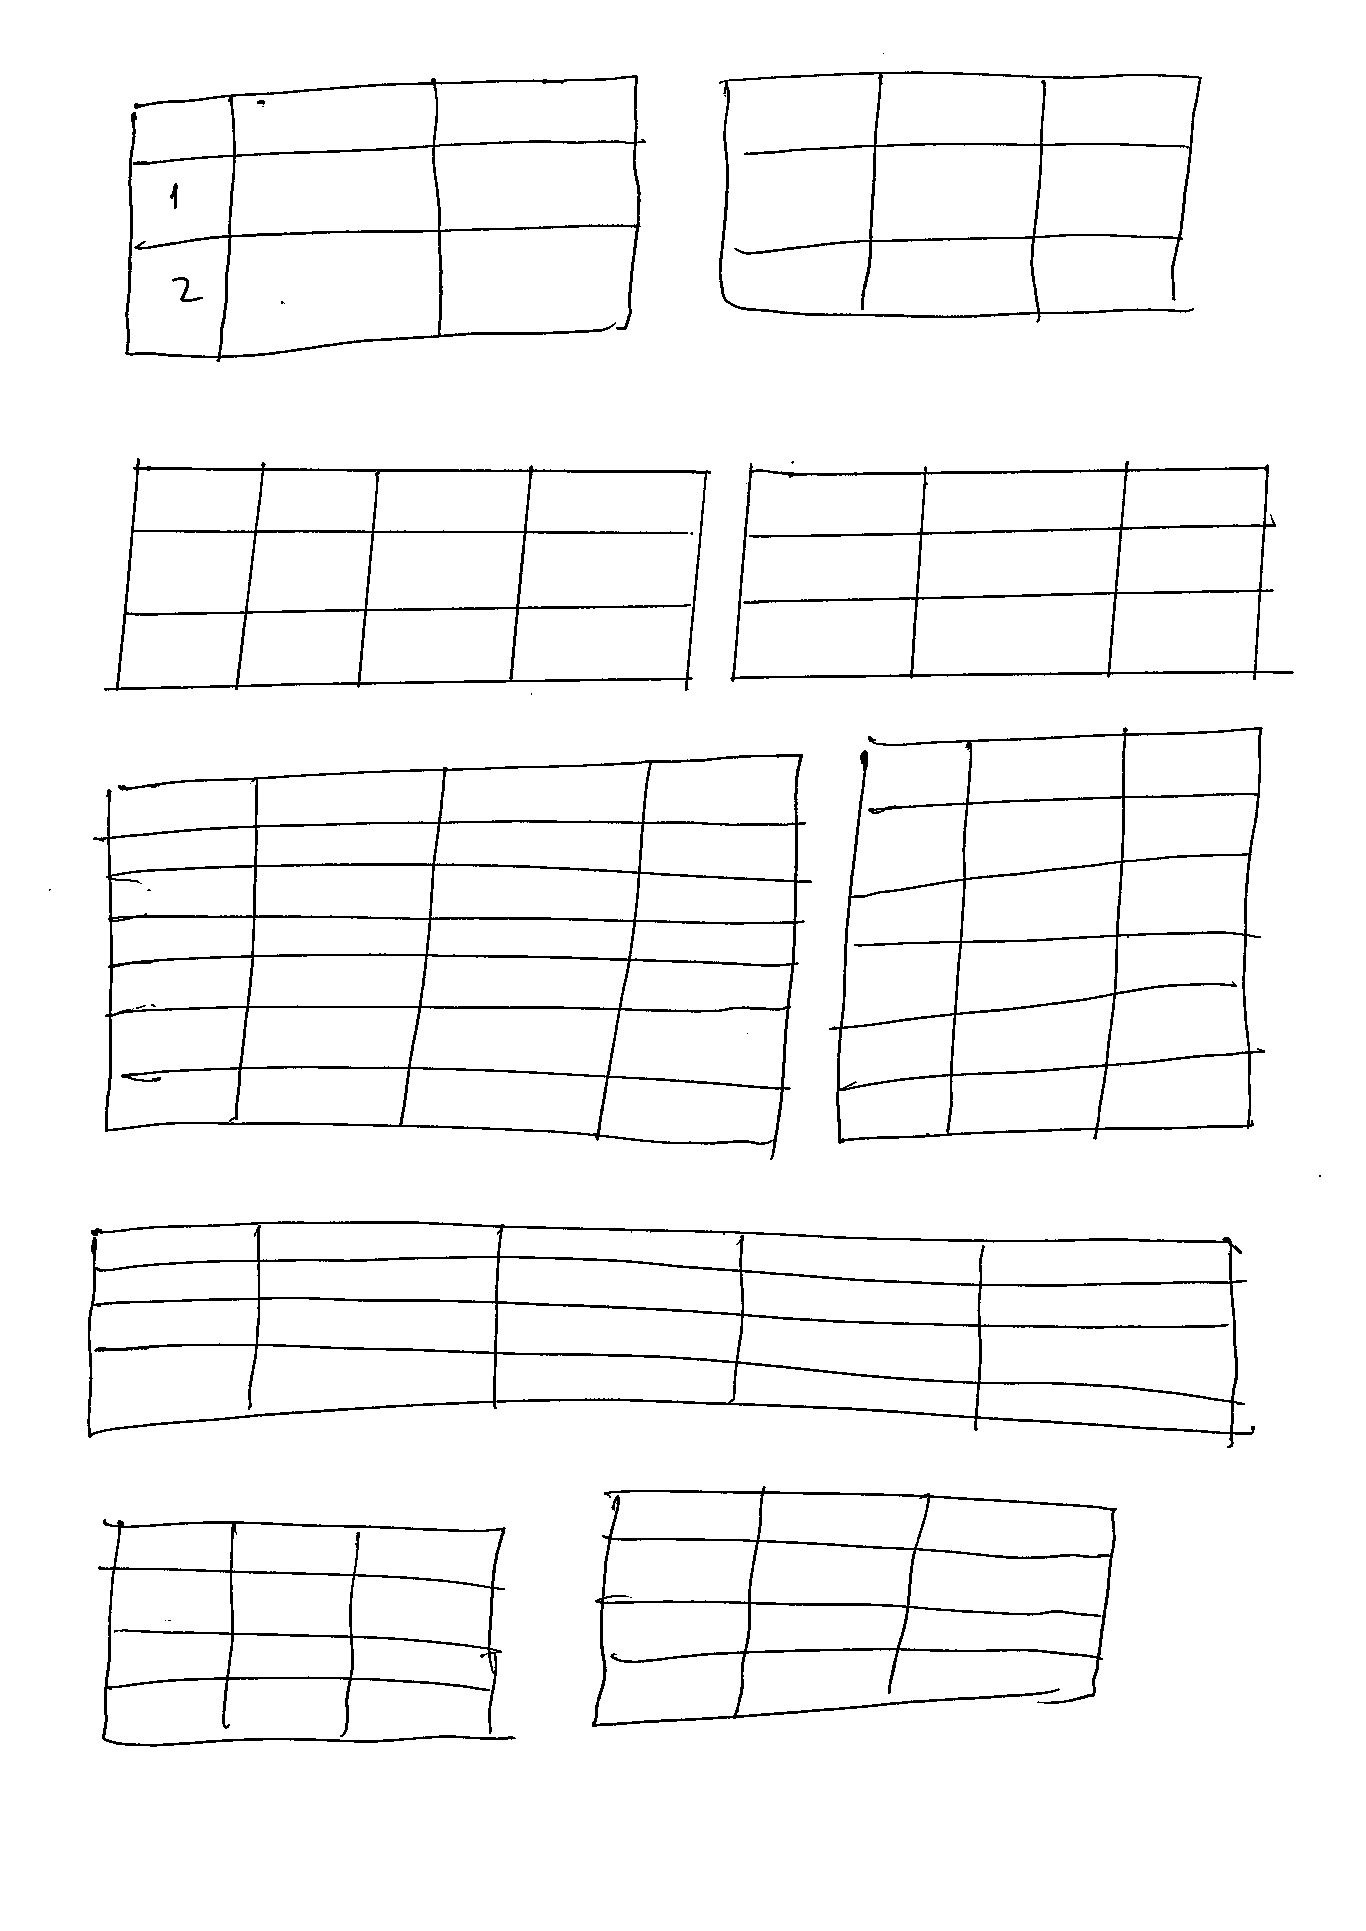Table: (86, 747, 809, 1147), (80, 1217, 1245, 1428), (832, 726, 1268, 1153), (115, 67, 645, 365), (106, 449, 718, 705), (727, 458, 1277, 705), (582, 1484, 1127, 1731), (718, 65, 1203, 322), (95, 1516, 506, 1754)
